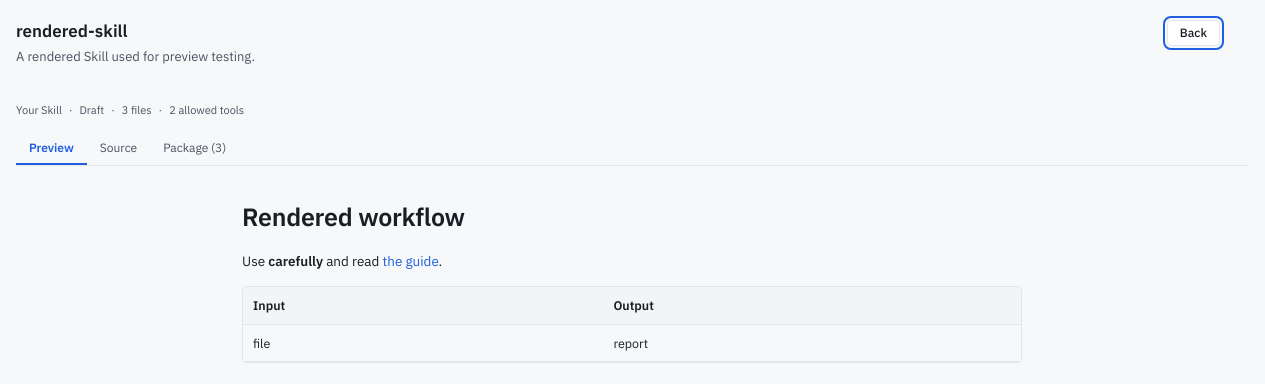
Scenario: SkillDetailsView › routes relative reference links into the package view
Click the link "the guide": (410, 261) [382,252,438,270]
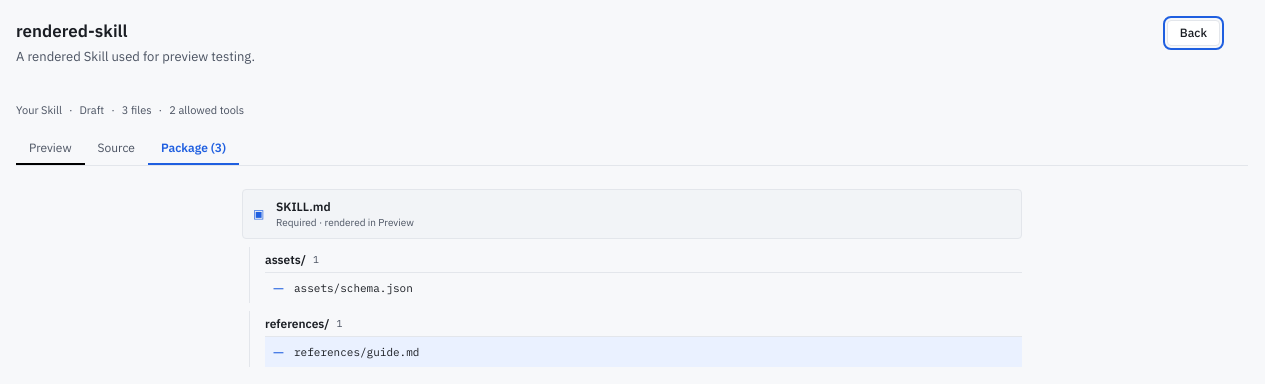
Expected: the text "references/guide.md" is shown, [294,344,419,358]
